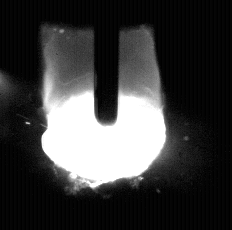arame: (95, 0, 119, 126)
poca: (39, 0, 169, 230)
